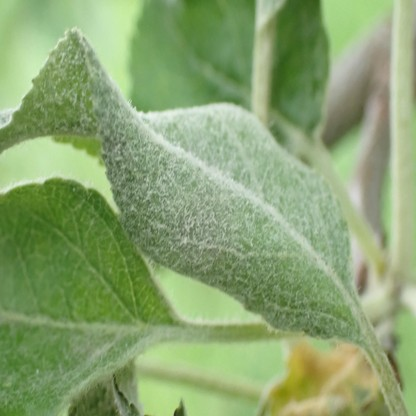powder: (1, 25, 360, 340), (2, 320, 154, 416), (279, 11, 326, 121)
